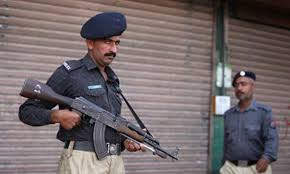gun: (18, 74, 186, 163)
uniform: (17, 53, 137, 173), (214, 100, 280, 174)
